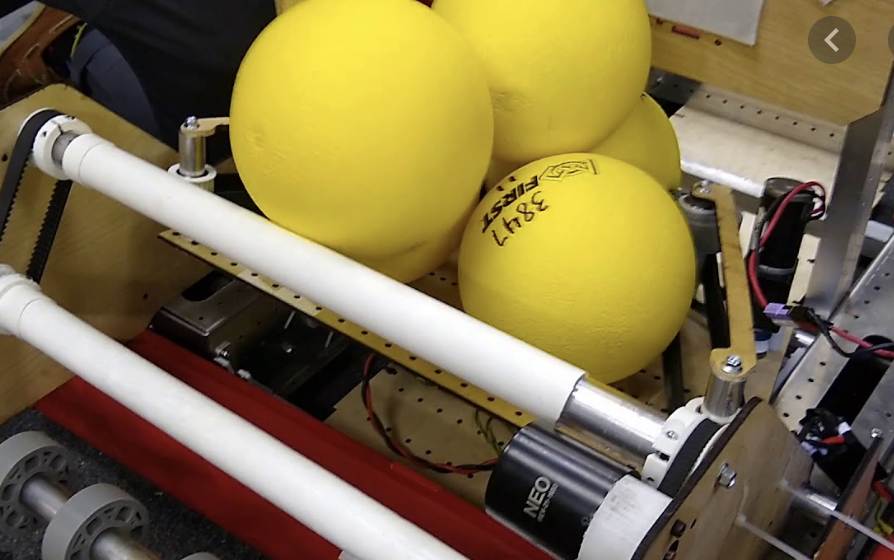powercell: (195, 10, 493, 239), (461, 152, 699, 379)
